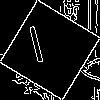I: (25, 25, 50, 73)
